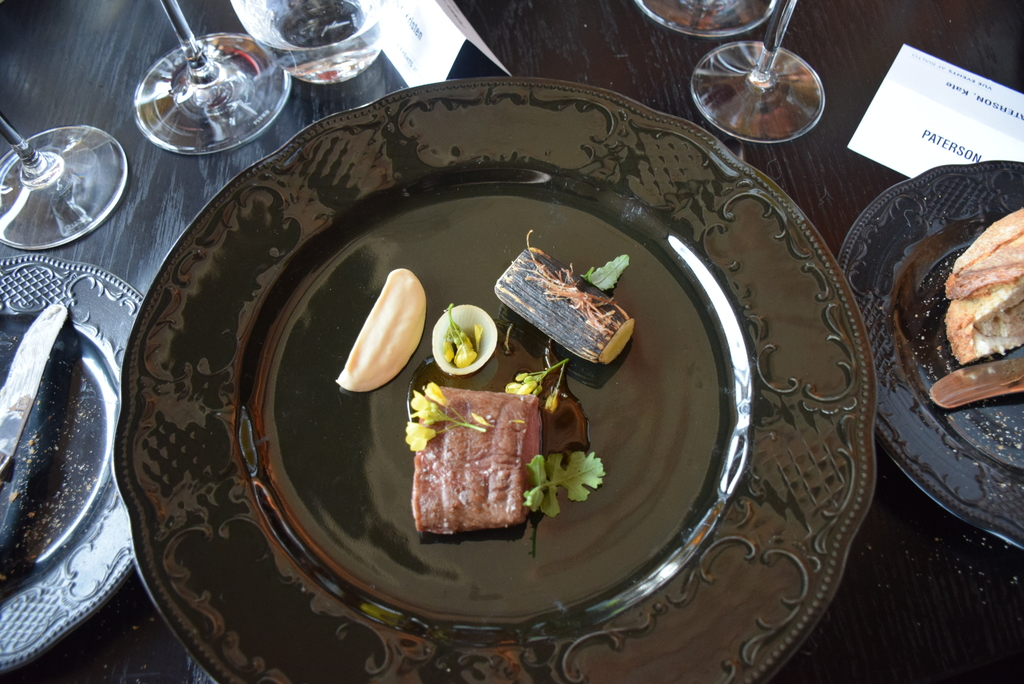plate: (134, 95, 869, 662)
